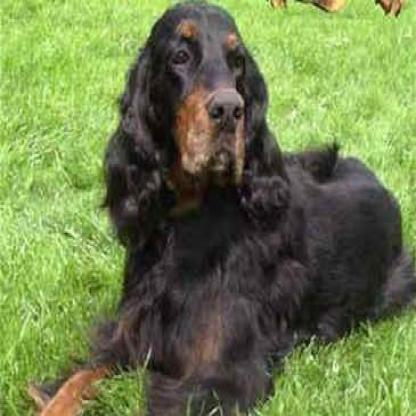Gordon_setter: (30, 0, 414, 413)
